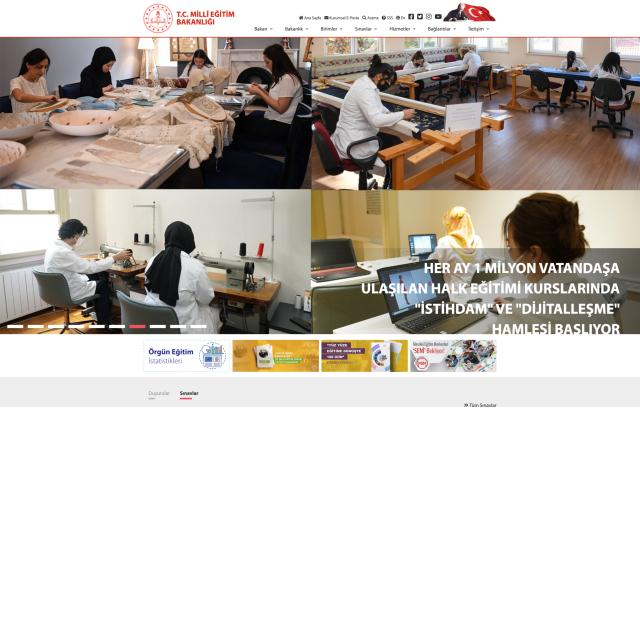logo: (140, 2, 237, 34)
navigation: (251, 24, 492, 33), (298, 14, 407, 22)
